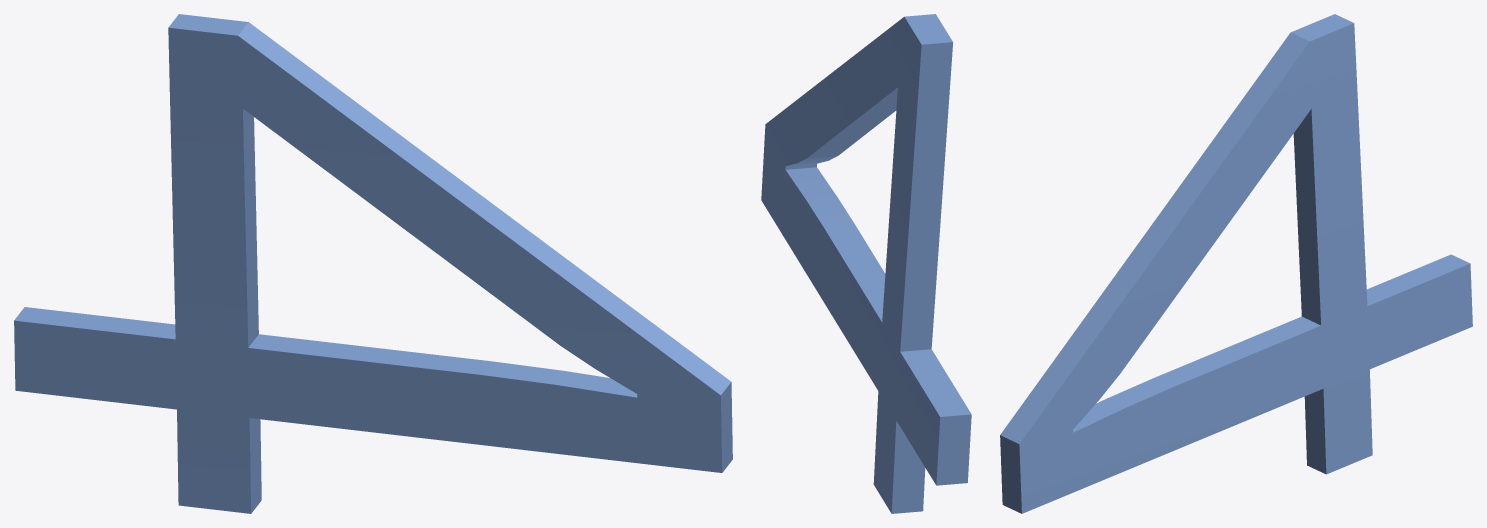
Rendered from New_Number_4.gltf.
3 renders of one model, left to right at view 1: azimuth 30°, elevation 25°; view 2: azimuth 150°, elevation 25°; view 3: azimuth 270°, elevation 25°, orthographic. The views are drawn at different scales.
Visible parts, largest first — view 1: Part 184; view 2: Part 184; view 3: Part 184.
Boxes of the visible parts, left/top/right/bottom form: Part 184: left=14, top=14, right=732, bottom=513; Part 184: left=761, top=14, right=971, bottom=513; Part 184: left=1000, top=14, right=1472, bottom=513.
Size of the model in its own units: 0.00409 by 0.00408 by 0.00413.
